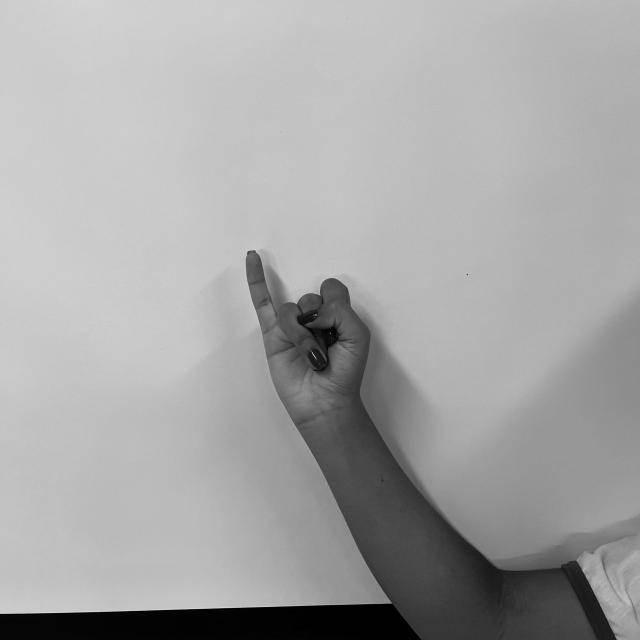Letra I: (239, 243, 376, 430)
